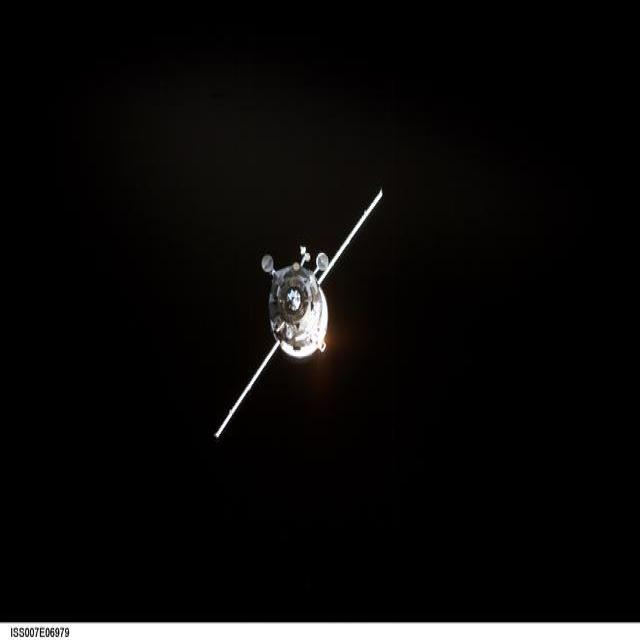medium_debris: (215, 189, 382, 437)
